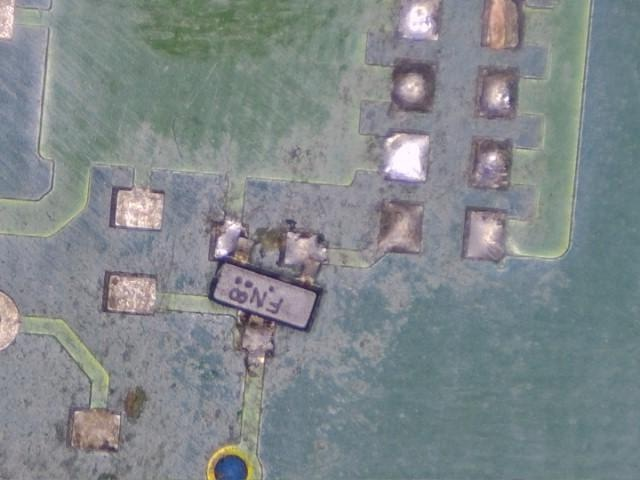pcb_defect: (206, 224, 321, 350)
